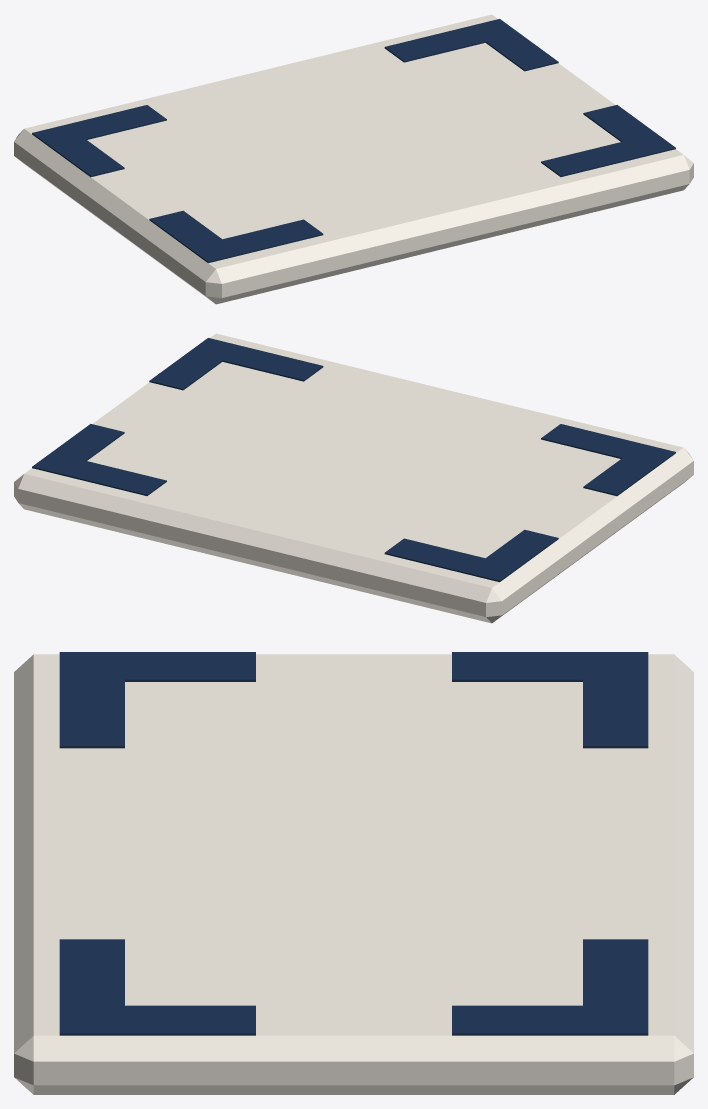
Rendered from pass_mark.glb.
3 renders of one model, top to bottom at view 1: azimuth 30°, elevation 25°; view 2: azimuth 150°, elevation 25°; view 3: azimuth 270°, elevation 25°, orthographic. The views are drawn at different scales.
Visible parts, largest first — view 1: PaperField, CornerX, CornerX.003, CornerX.002, CornerX.001, CornerY, CornerY.001, CornerY.003, CornerY.002; view 2: PaperField, CornerX.001, CornerX.003, CornerX.002, CornerX, CornerY.001, CornerY, CornerY.002, CornerY.003; view 3: PaperField, CornerX.001, CornerX.002, CornerX.003, CornerX, CornerY.002, CornerY.003, CornerY.001, CornerY.
Boxes of the visible parts, box(x1,y1,x2,y2) form: PaperField: box(14, 14, 693, 304); CornerX: box(189, 219, 323, 262); CornerX.003: box(384, 19, 518, 62); CornerX.002: box(541, 133, 675, 176); CornerX.001: box(32, 105, 166, 146); CornerY: box(149, 210, 241, 263); CornerY.001: box(32, 132, 124, 177); CornerY.003: box(467, 21, 558, 71); CornerY.002: box(583, 105, 675, 157); PaperField: box(14, 333, 693, 623); CornerX.001: box(384, 538, 519, 581); CornerX.003: box(33, 452, 166, 495); CornerX.002: box(189, 338, 323, 381); CornerX: box(541, 424, 675, 467); CornerY.001: box(466, 529, 558, 581); CornerY: box(583, 454, 670, 496); CornerY.002: box(149, 340, 240, 390); CornerY.003: box(32, 424, 124, 476); PaperField: box(14, 654, 693, 1094); CornerX.001: box(583, 652, 648, 748); CornerX.002: box(59, 939, 124, 1035); CornerX.003: box(583, 939, 648, 1035); CornerX: box(59, 652, 124, 748); CornerY.002: box(59, 1005, 255, 1035); CornerY.003: box(452, 1005, 648, 1035); CornerY.001: box(452, 652, 648, 681); CornerY: box(59, 652, 255, 681).
Bounding box in the file's own units: 0.72 × 0.052 × 0.52.
Materials: 1 (1 with a texture image).
